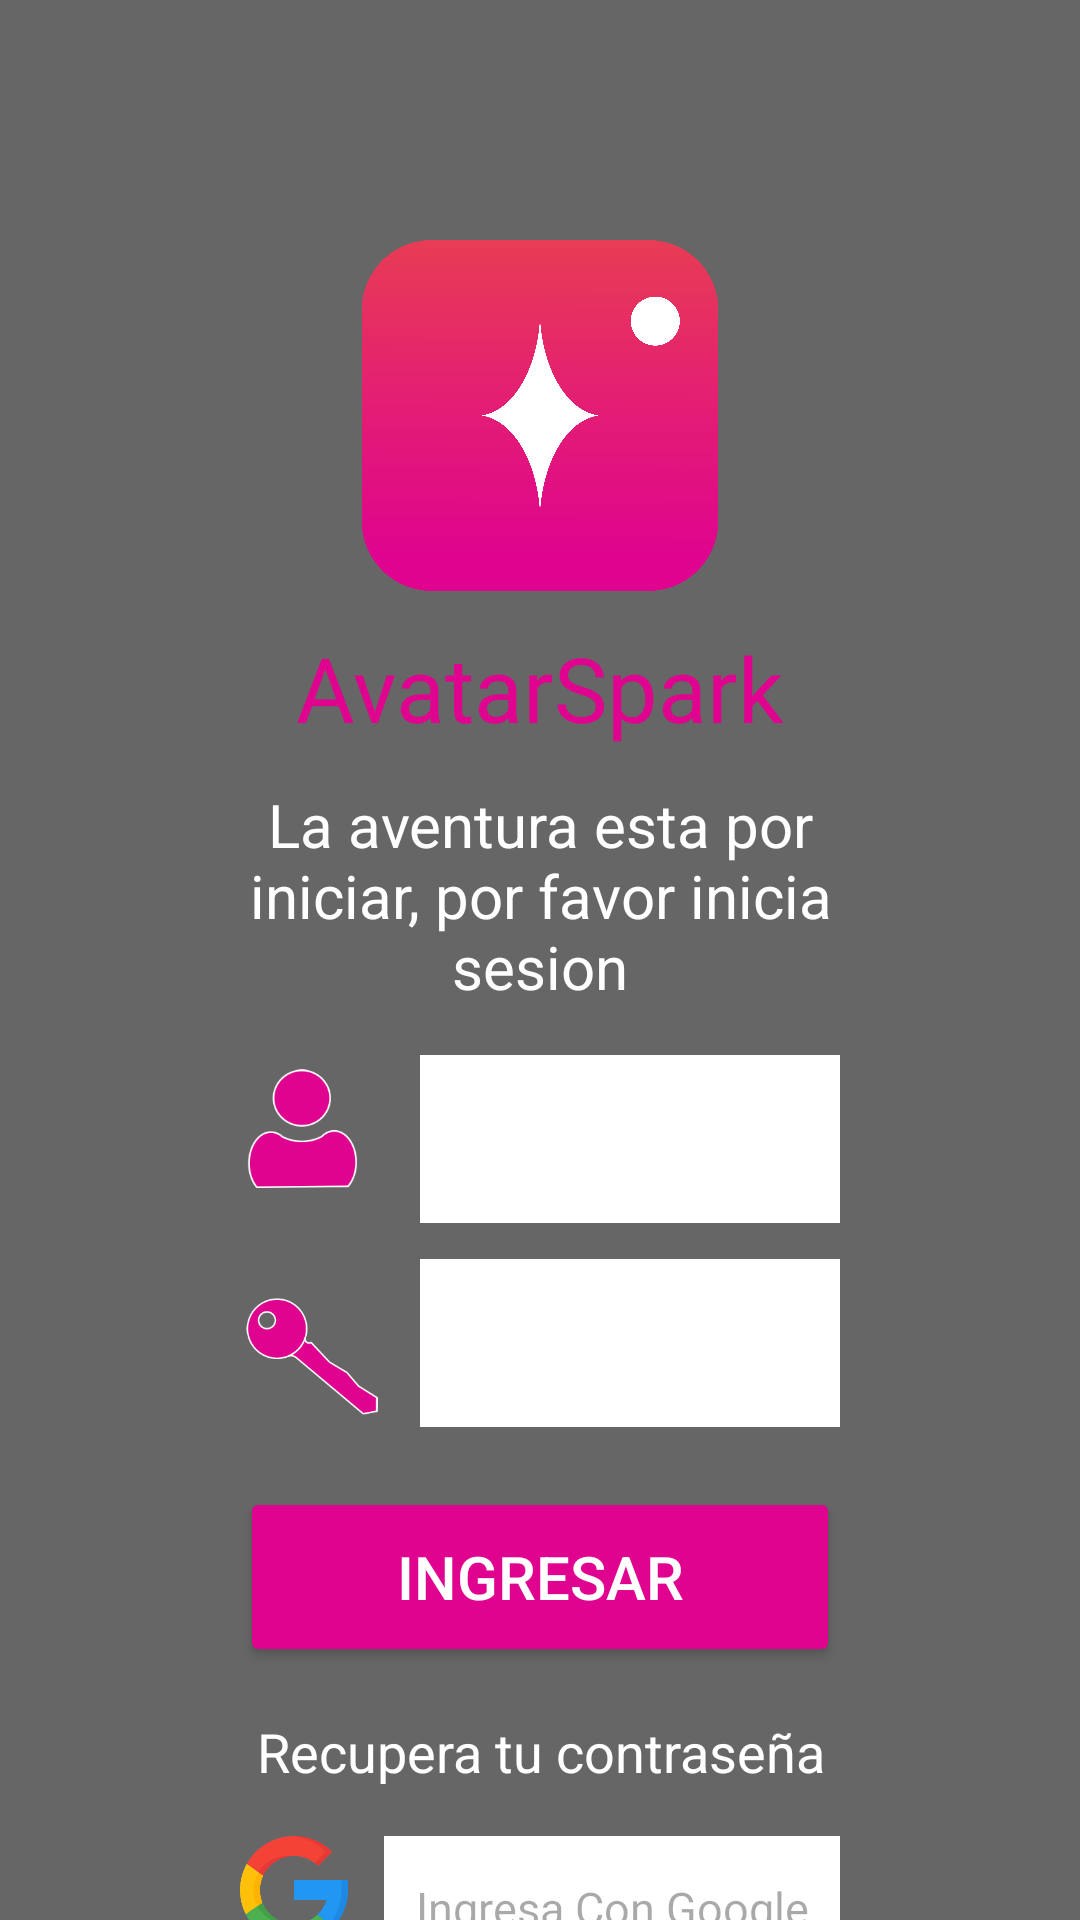

Point at icon controls on the screen. Image size 1080x1920, points as point (x, y).
Diguite la contraseña: point (312, 1356)
user: point (302, 1128)
